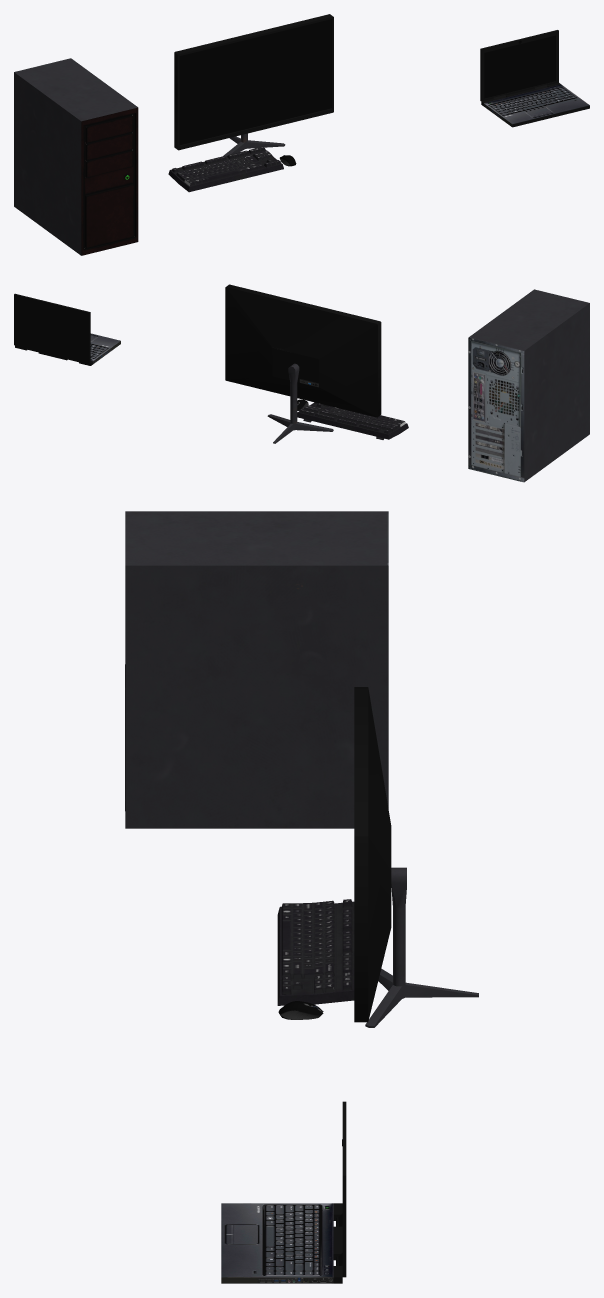
Rendered from Computer.fbx.
3 renders of one model, top to bottom at view 1: azimuth 30°, elevation 25°; view 2: azimuth 150°, elevation 25°; view 3: azimuth 270°, elevation 25°, orthographic. The views are drawn at different scales.
Visible parts, largest first — view 1: computer3, computer2, Computer1; view 2: computer3, computer2, Computer1; view 3: computer3, computer2, Computer1.
Part boxes in pixels (<box>): computer3: <box>14,58,138,255</box>; computer2: <box>168,14,333,192</box>; Computer1: <box>480,30,589,127</box>; computer3: <box>468,289,589,482</box>; computer2: <box>225,284,408,443</box>; Computer1: <box>14,293,120,365</box>; computer3: <box>125,511,388,828</box>; computer2: <box>277,687,478,1027</box>; Computer1: <box>221,1101,346,1283</box>.
Bounding box in the file's own units: 32.97 × 7.99 × 9.71.
